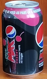pepsi: (2, 1, 43, 77)
